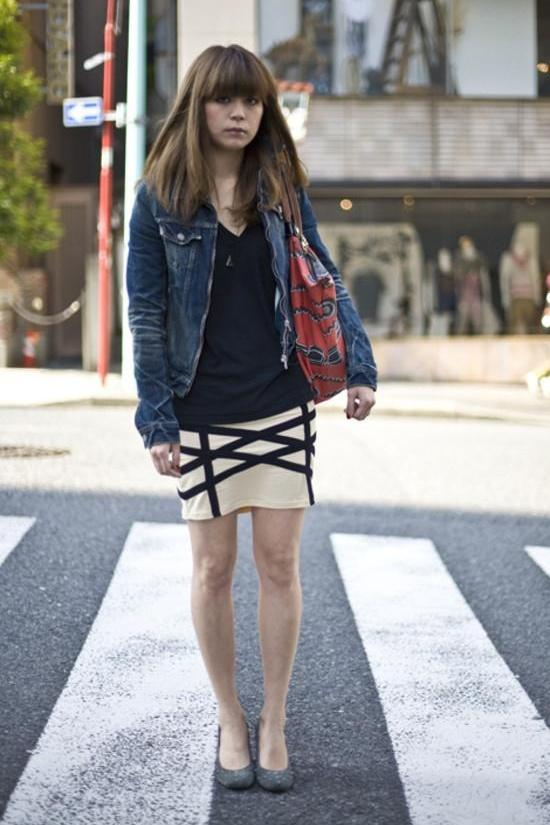skirt: (171, 398, 318, 523)
sweater: (125, 173, 377, 448)
